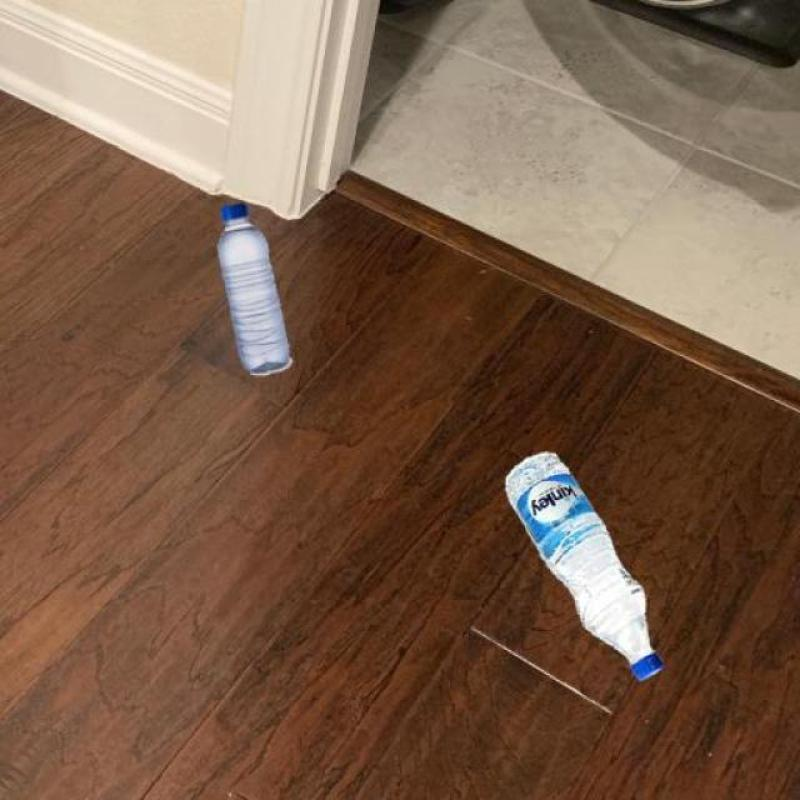botella: (506, 450, 664, 682), (218, 196, 294, 378)
